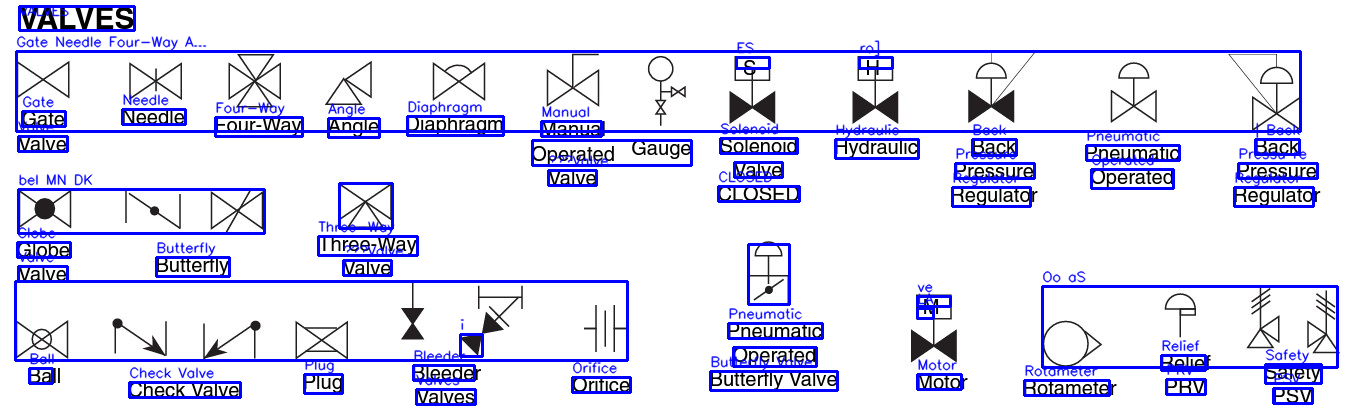Válvula: (1222, 50, 1309, 134), (963, 45, 1040, 127), (454, 282, 528, 359), (723, 49, 782, 128), (908, 289, 964, 366), (1103, 60, 1164, 127), (1040, 314, 1107, 374), (540, 47, 604, 109), (849, 54, 903, 126), (224, 49, 286, 111), (644, 50, 691, 126), (745, 235, 793, 308), (204, 183, 266, 237), (11, 309, 73, 362), (118, 184, 183, 234), (333, 181, 399, 230), (577, 300, 633, 356), (426, 54, 491, 102), (125, 56, 187, 106), (105, 314, 170, 359), (198, 319, 263, 364), (12, 57, 75, 103), (14, 184, 77, 230), (292, 318, 352, 364), (1245, 280, 1283, 351), (1305, 286, 1343, 356), (321, 61, 377, 108), (399, 274, 429, 348), (1162, 286, 1199, 340)
